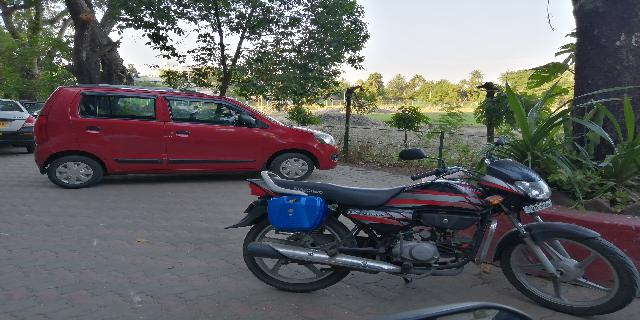Car: (30, 83, 338, 191), (1, 95, 35, 154)
Motorbike: (223, 151, 640, 313)
